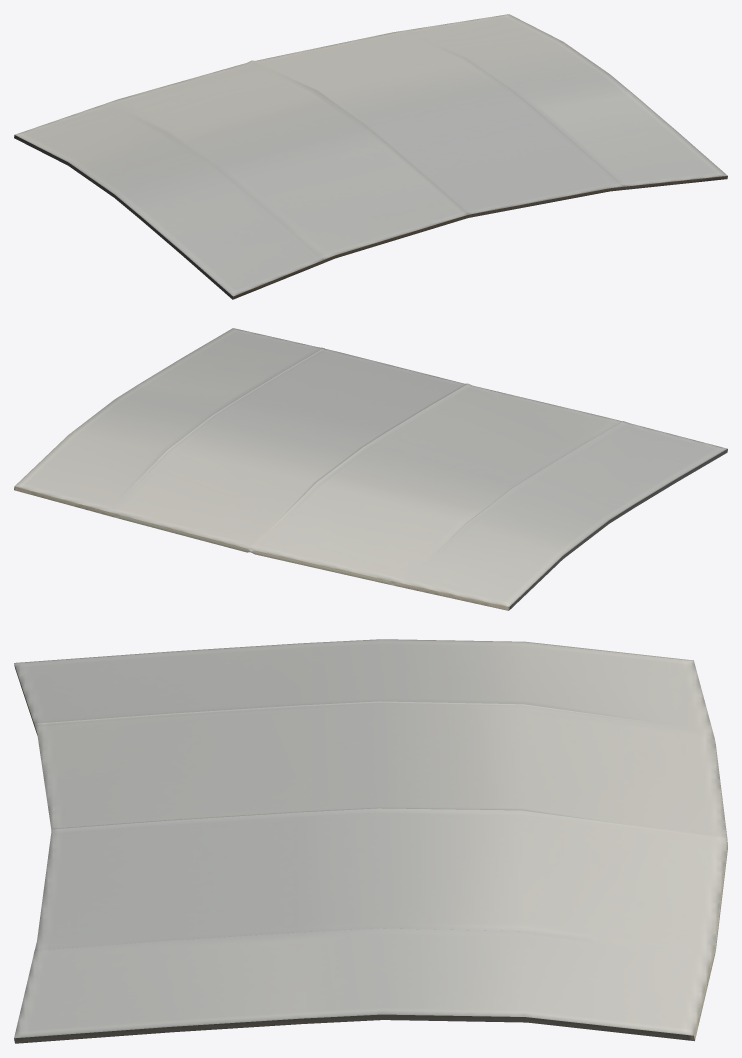
The model's file is CavalierHood_WorldItem.fbx.
The picture shows the model from 3 angles, top to bottom: view 1: azimuth 30°, elevation 25°; view 2: azimuth 150°, elevation 25°; view 3: azimuth 270°, elevation 25°; orthographic projection. The views are drawn at different scales.
Visible parts, largest first — view 1: Hood_obj; view 2: Hood_obj; view 3: Hood_obj.
Boxes of the visible parts, x1,y1,x2,y2 form: Hood_obj: (14, 14, 727, 299); Hood_obj: (14, 328, 727, 610); Hood_obj: (14, 639, 727, 1043).
Bounding box in the file's own units: 1.64 × 0.0972 × 1.32.
